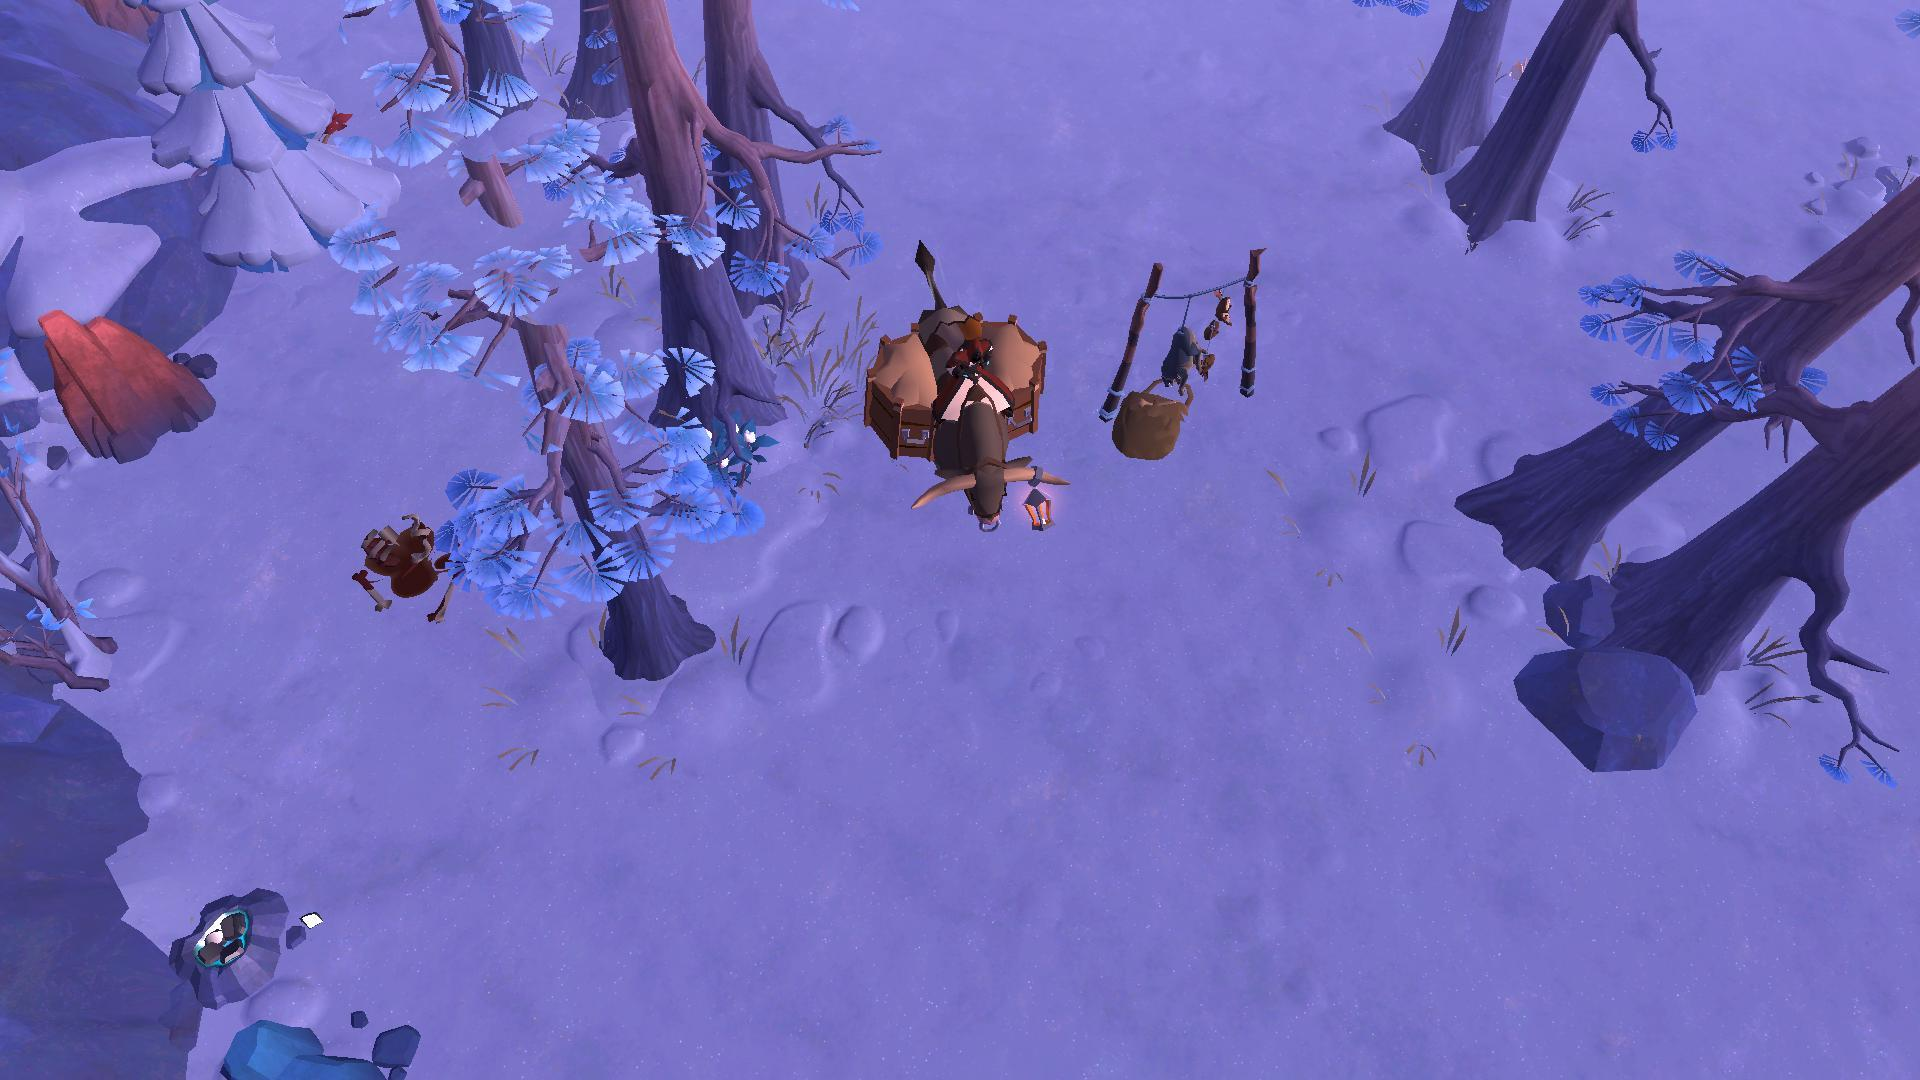fiber_t4: (674, 411, 778, 504)
rock_t4: (208, 1013, 410, 1080)
rock_t5: (24, 295, 219, 465)
